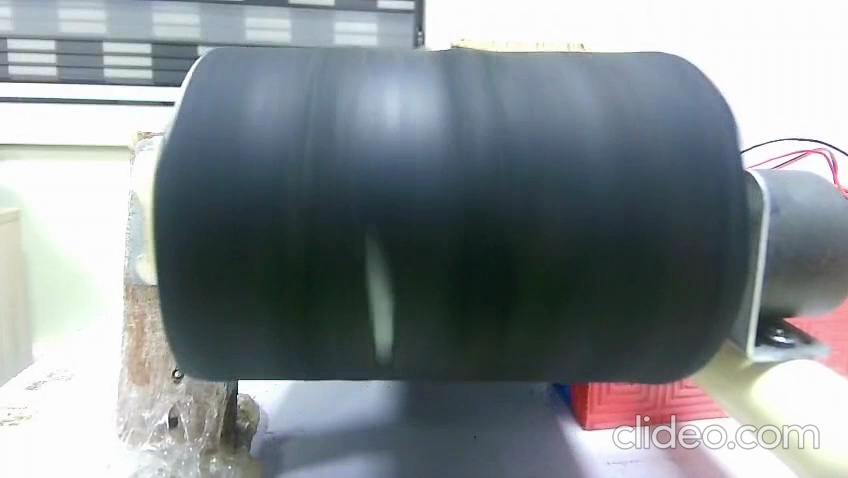hole: (353, 218, 402, 366)
